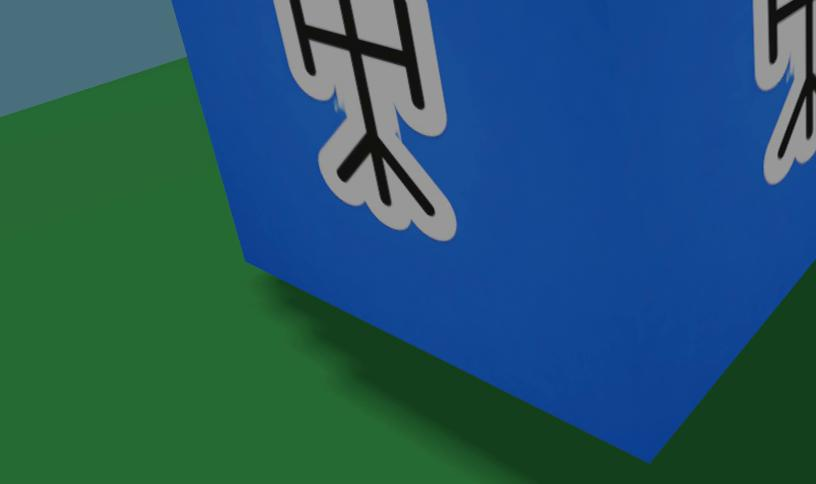KFS_REAL: (170, 0, 816, 461), (273, 0, 455, 240), (753, 0, 816, 183)
